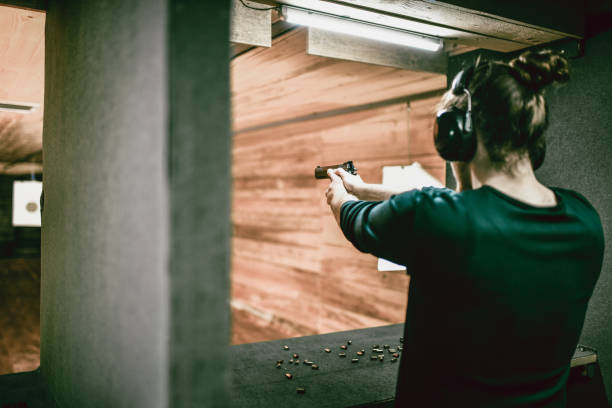gun: (315, 160, 358, 179)
